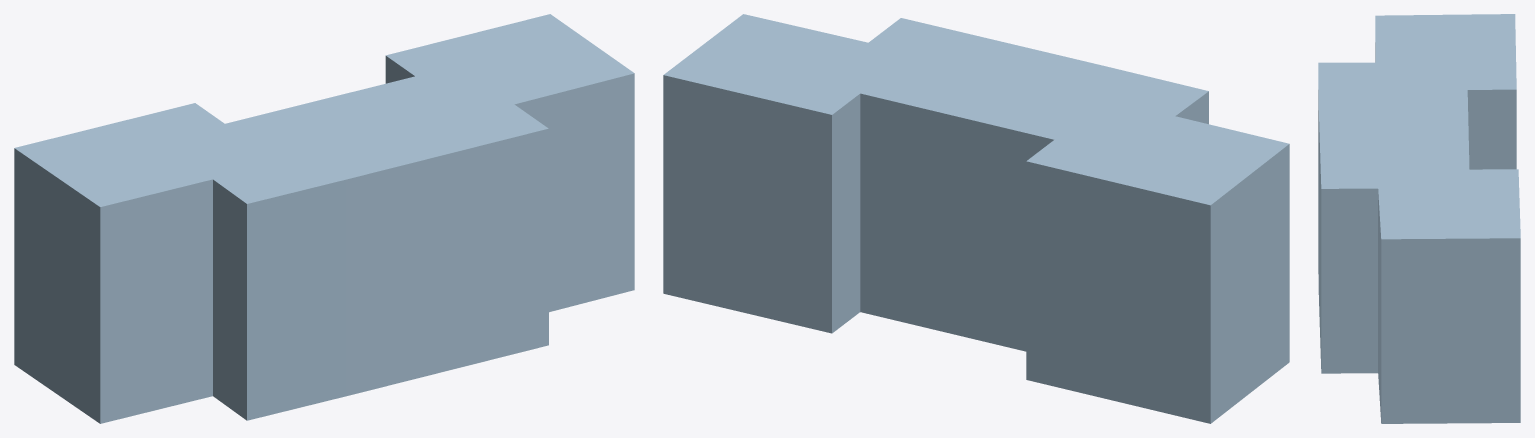
Rendered from osm_way_223859815.glb.
The picture shows the model from 3 angles, left to right: view 1: azimuth 30°, elevation 25°; view 2: azimuth 150°, elevation 25°; view 3: azimuth 270°, elevation 25°; orthographic projection. The views are drawn at different scales.
Visible parts, largest first — view 1: osm_way_223859815; view 2: osm_way_223859815; view 3: osm_way_223859815.
Boxes of the visible parts, x1,y1,x2,y2 form: osm_way_223859815: [14, 14, 634, 423]; osm_way_223859815: [663, 14, 1289, 423]; osm_way_223859815: [1318, 14, 1520, 423].
Bounding box in the file's own units: 50.23 × 19.2 × 19.09.
